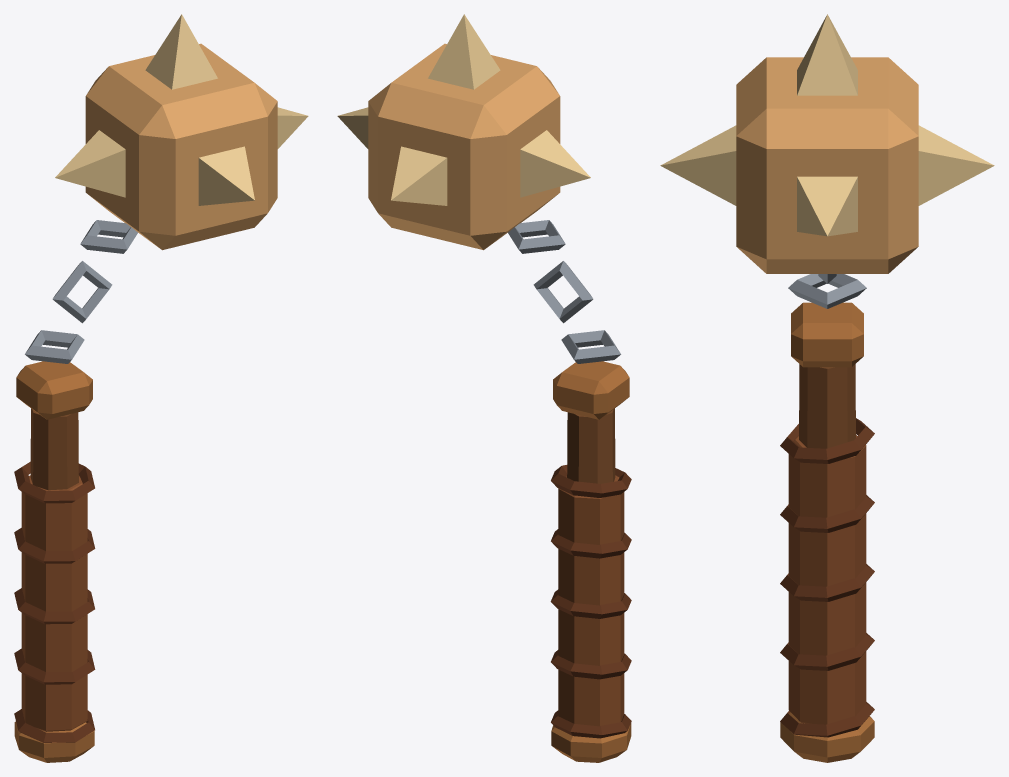
The model's file is WoodFlail.fbx.
The picture shows the model from 3 angles, left to right: view 1: azimuth 30°, elevation 25°; view 2: azimuth 150°, elevation 25°; view 3: azimuth 270°, elevation 25°; orthographic projection. The views are drawn at different scales.
Visible parts, largest first — view 1: WoodFlail; view 2: WoodFlail; view 3: WoodFlail.
Boxes of the visible parts, x1,y1,x2,y2 form: WoodFlail: (14, 14, 308, 762); WoodFlail: (337, 14, 631, 762); WoodFlail: (660, 14, 994, 762).
Bounding box in the file's own units: 1.26 × 2.92 × 1.1.
1 material, 1 textured.
